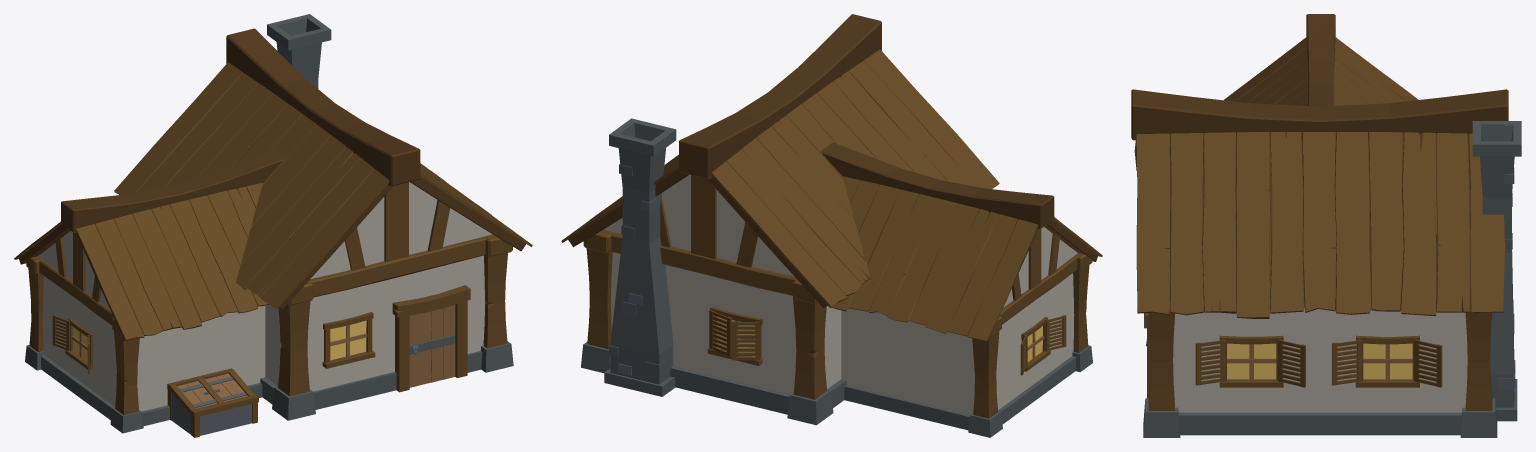
File: House_04.fbx
3 renders of one model, left to right at view 1: azimuth 30°, elevation 25°; view 2: azimuth 150°, elevation 25°; view 3: azimuth 270°, elevation 25°, orthographic. The views are drawn at different scales.
Parts seen in each view (by area): view 1: House_04; view 2: House_04; view 3: House_04.
Part boxes in pixels (x1,y1,x2,y2): House_04: (14, 14, 532, 437); House_04: (561, 14, 1102, 437); House_04: (1131, 14, 1521, 437).
Size of the model in its own units: 9 by 5.43 by 6.88.
